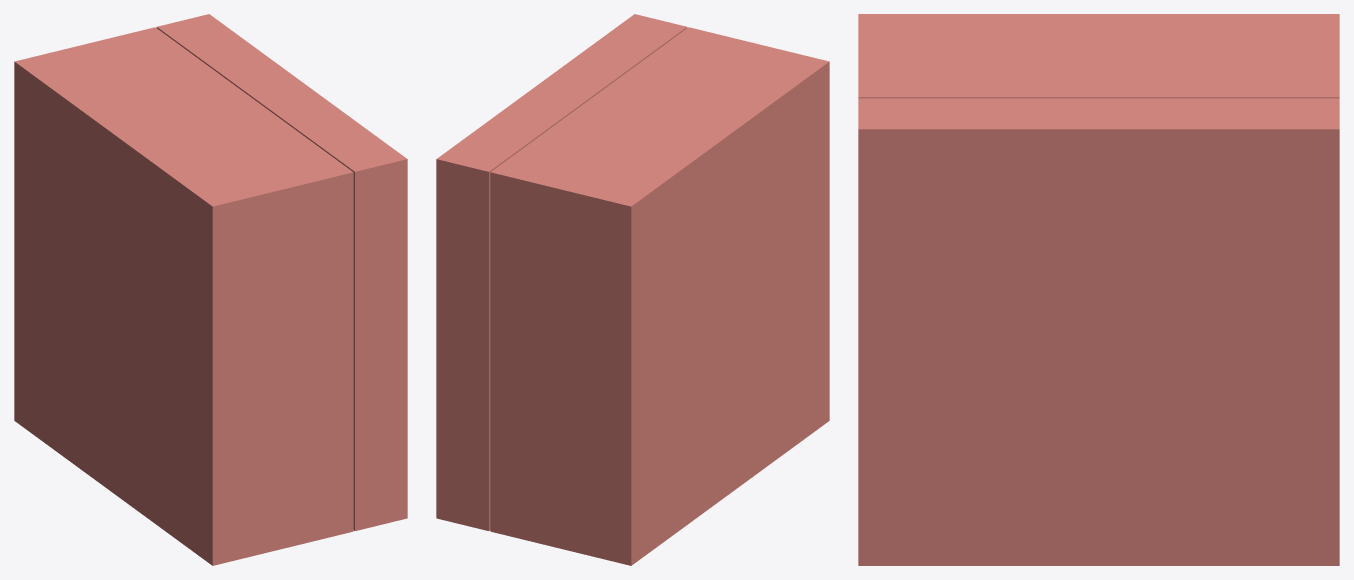
Rendered from REALLockbox.fbx.
3 views of the same model, side by side, from view 1: azimuth 30°, elevation 25°; view 2: azimuth 150°, elevation 25°; view 3: azimuth 270°, elevation 25° (orthographic). The views are drawn at different scales.
Parts seen in each view (by area): view 1: Cube, Cube.001; view 2: Cube, Cube.001; view 3: Cube.001, Cube.
Part boxes in pixels (x1,y1,x2,y2): Cube: (14, 27, 353, 565); Cube.001: (156, 14, 407, 530); Cube: (490, 27, 829, 565); Cube.001: (436, 14, 687, 530); Cube.001: (858, 98, 1339, 565); Cube: (858, 14, 1339, 98).
Bounding box in the file's own units: 113 × 200 × 200.
